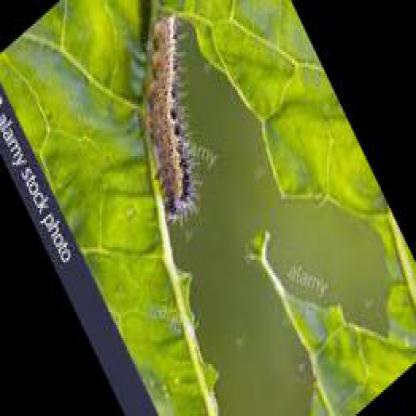pieris: (146, 23, 197, 222)
